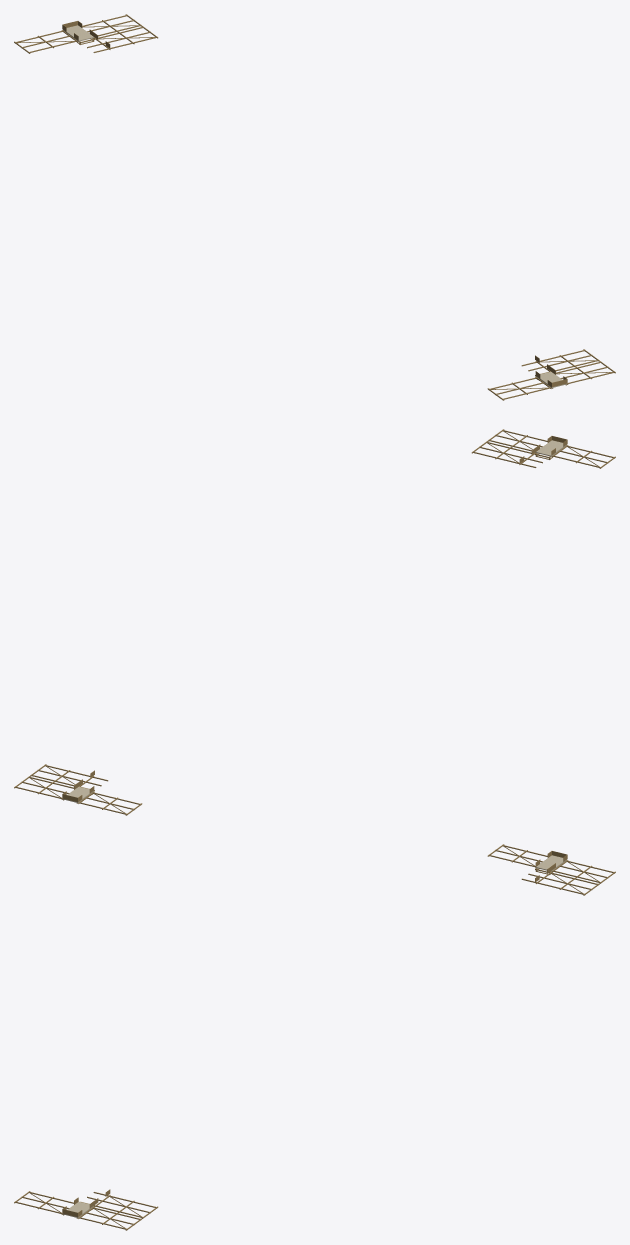
The model's file is StarAtlasSpecialtyTwelfthReceiving.glb.
3 views of the same model, one above another, from view 1: azimuth 30°, elevation 25°; view 2: azimuth 150°, elevation 25°; view 3: azimuth 330°, elevation 25° (orthographic).
Bounding box in the file's own units: 29.9 × 2.1 × 224.
Materials: 2 (2 with a texture image).
